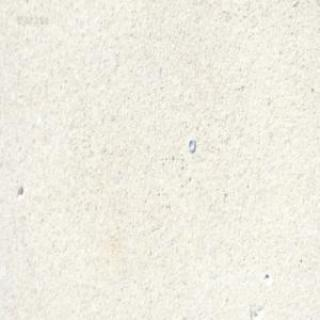Washertrack_idkeyframe: (187, 136, 194, 152)
